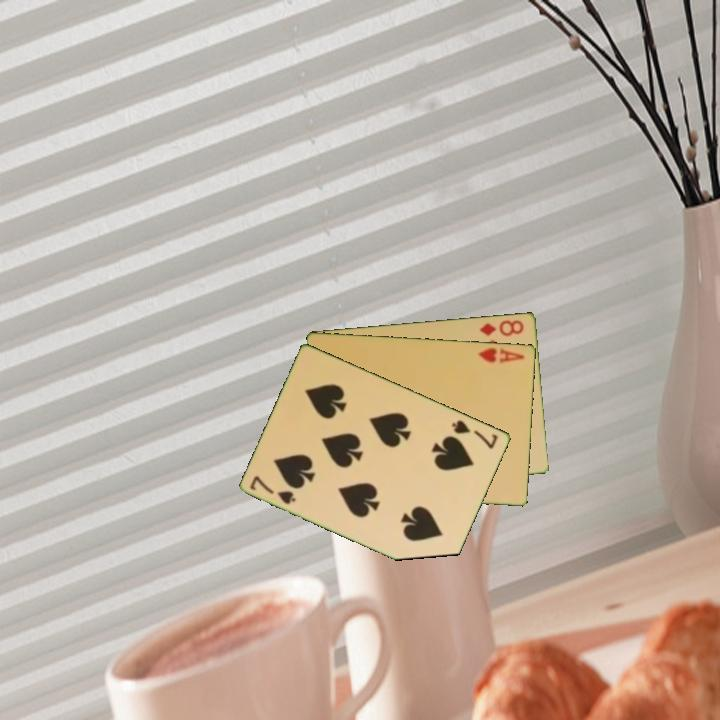7s: (448, 416, 501, 452), (247, 472, 299, 507)
8d: (476, 316, 527, 339)
Ah: (474, 344, 527, 366)
